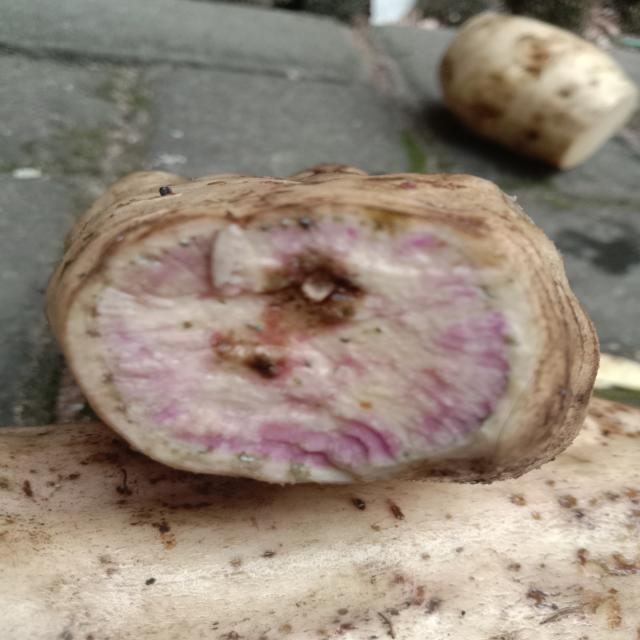Sick Sweet Potato_Tuber Rot: (48, 166, 558, 482)
